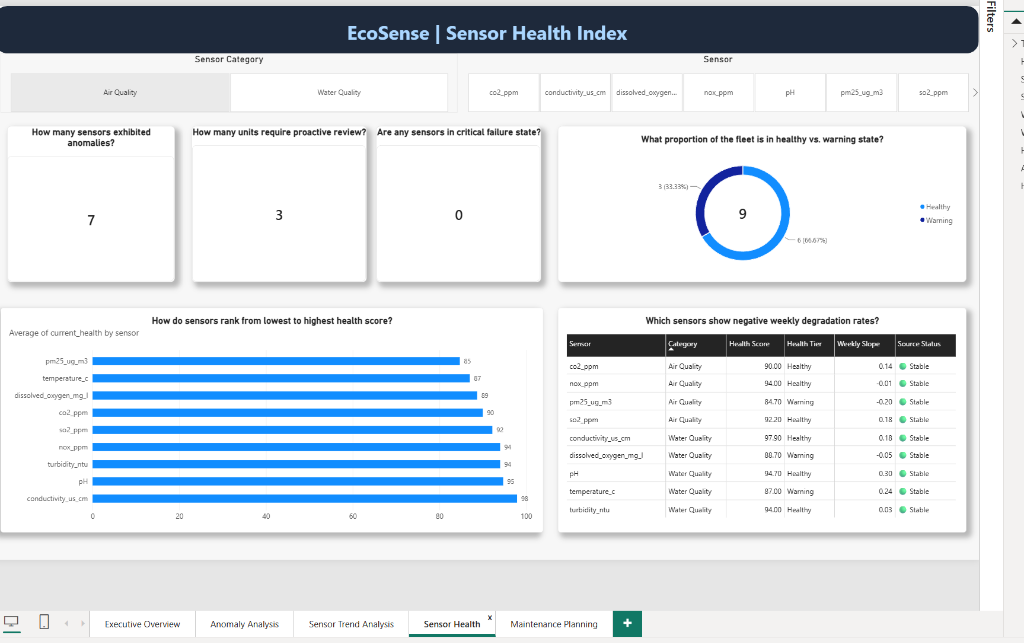

The page's visual inventory and layout, read from the dashboard file:
{"tool":"powerbi","page":{"name":"Sensor Health","canvas":[1920,1080],"ordinal":3},"visuals":[{"type":"cardVisual","title":"How many units require proactive review?","fields":{"Data":["Count(sensor_trends.sensor)"]},"box":[383.2,234.6,341.5,305],"z":1000},{"type":"cardVisual","title":"Are any sensors in critical failure state?","fields":{"Data":["sensor_trends.Critical Sensors"]},"box":[743,234.6,322,305],"z":2000},{"type":"clusteredBarChart","title":"How do sensors rank from lowest to highest health score?","fields":{"Category":["sensor_trends.sensor"],"Y":["Avg(sensor_trends.current_health)"]},"box":[10.4,589.2,1059.7,439.3],"z":3000},{"type":"donutChart","title":"What proportion of the fleet is in healthy vs. warning state?","fields":{"Category":["sensor_trends.Health Tier"],"Y":["CountNonNull(sensor_trends.sensor)"]},"box":[1098.8,234.6,797.7,305],"z":4000},{"type":"tableEx","title":"Which sensors show negative weekly degradation rates?","fields":{"Values":["sensor_trends.sensor","sensor_trends.category","sensor_trends.current_health","sensor_trends.Health Tier","sensor_trends.weekly_slope","sensor_trends.status"]},"box":[1098.8,589.2,797.7,439.3],"z":5000},{"type":"slicer","title":"Sensor Category","fields":{"Values":["sensor_trends.category"]},"box":[10.4,92.5,892.9,116],"z":6000},{"type":"slicer","title":"Sensor","fields":{"Values":["sensor_trends.sensor"]},"box":[903.3,92.5,1016.7,116],"z":7000},{"type":"cardVisual","title":"How many sensors exhibited anomalies?","fields":{"Data":["detected_anomalies.Sensors With Detections"]},"box":[23.5,234.6,327.2,305],"z":8000},{"type":"group","id":"g1","title":"Title","box":[0,0,1920,92.8],"z":8001},{"type":"shape","box":[0,0,1920,92.8],"z":10000,"group":"g1"},{"type":"textbox","box":[10.1,25.7,1899.8,54.2],"z":10500,"group":"g1"}]}

Visuals, with their boxes on the page's 1920x1080 design canvas (x1, y1, x2, y2). These are canvas units, not pixel positions in the 1024x643 screenshot, which may show the page scaled, cropped or inside an application window:
"How many units require proactive review?" cardVisual: (left=383, top=235, right=725, bottom=540)
"Are any sensors in critical failure state?" cardVisual: (left=743, top=235, right=1065, bottom=540)
"How do sensors rank from lowest to highest health score?" clusteredBarChart: (left=10, top=589, right=1070, bottom=1028)
"What proportion of the fleet is in healthy vs. warning state?" donutChart: (left=1099, top=235, right=1896, bottom=540)
"Which sensors show negative weekly degradation rates?" tableEx: (left=1099, top=589, right=1896, bottom=1028)
"Sensor Category" slicer: (left=10, top=92, right=903, bottom=208)
"Sensor" slicer: (left=903, top=92, right=1920, bottom=208)
"How many sensors exhibited anomalies?" cardVisual: (left=24, top=235, right=351, bottom=540)
"Title" group: (left=0, top=0, right=1920, bottom=93)
shape: (left=0, top=0, right=1920, bottom=93)
textbox: (left=10, top=26, right=1910, bottom=80)
